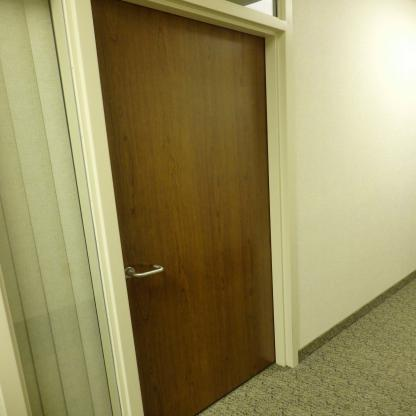door: (95, 11, 271, 377)
lever: (130, 263, 168, 282)
